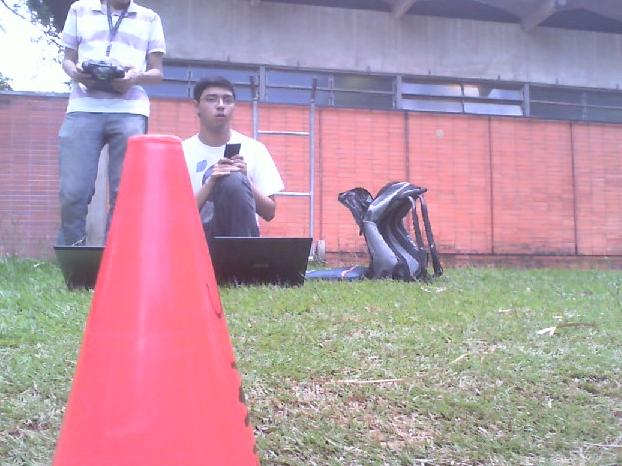0 cone: (50, 134, 263, 466)
